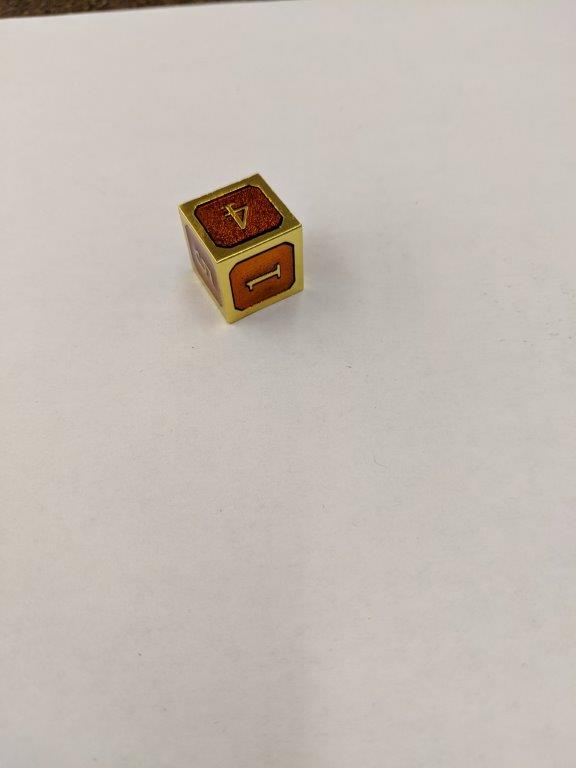d6-4: (175, 171, 306, 328)
